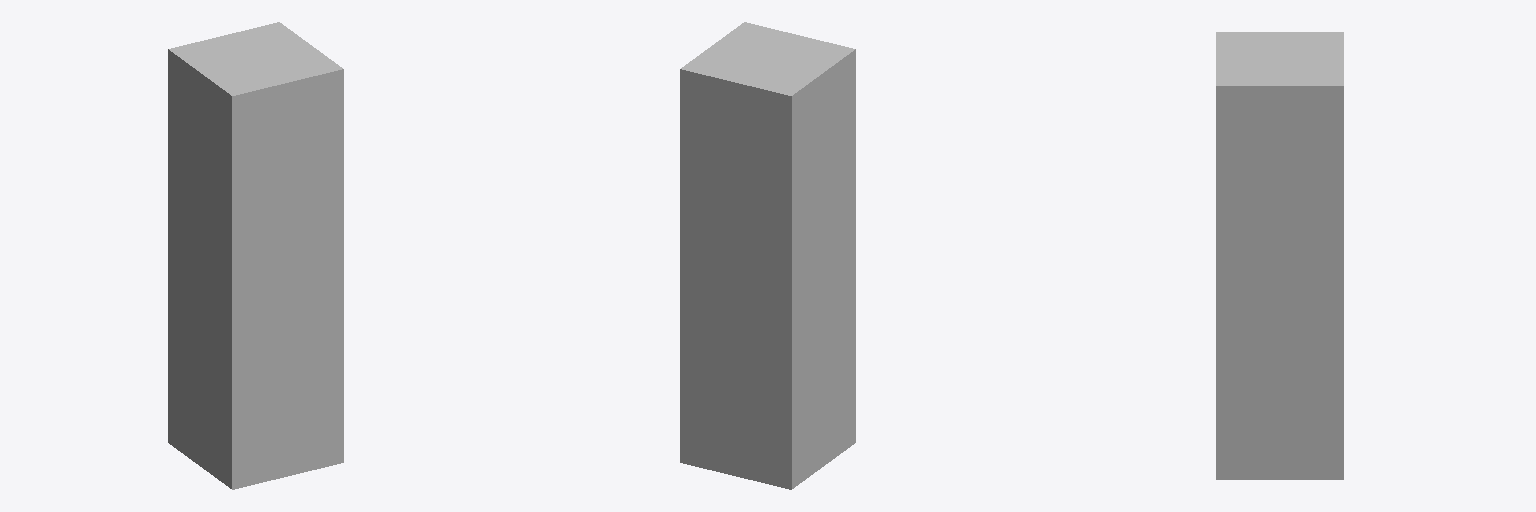
The model's file is MAYAK2.obj.
The picture shows the model from 3 angles: view 1: azimuth 30°, elevation 25°; view 2: azimuth 150°, elevation 25°; view 3: azimuth 270°, elevation 25°; orthographic projection.
Parts seen in each view (by area): view 1: Cube2; view 2: Cube2; view 3: Cube2.
Boxes of the visible parts, x1,y1,x2,y2 form: Cube2: [168, 22, 343, 489]; Cube2: [680, 22, 855, 489]; Cube2: [1216, 32, 1343, 479].
Size of the model in its own units: 0.77 by 2.6 by 0.77.